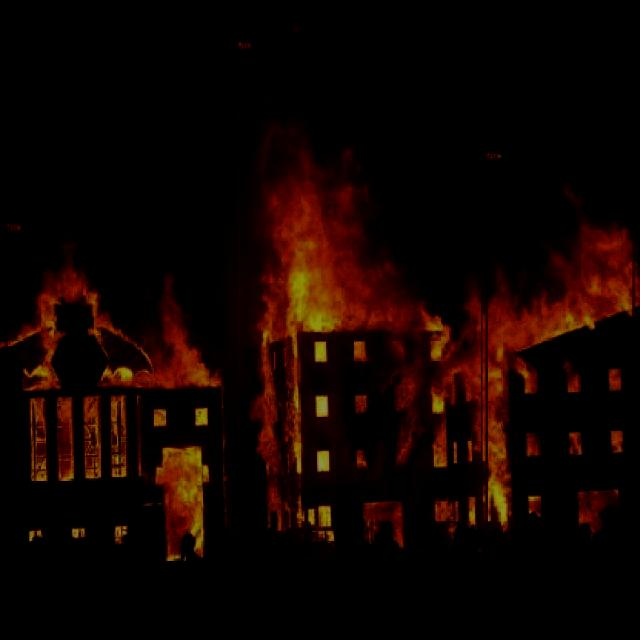fire: (236, 48, 481, 562), (5, 230, 229, 567), (486, 158, 634, 542)
